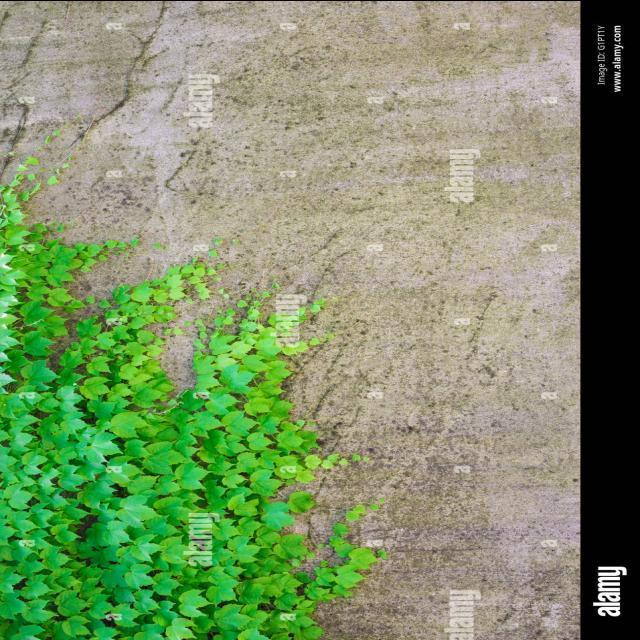crack: (8, 7, 573, 239), (177, 1, 568, 101), (11, 13, 169, 194), (1, 4, 69, 161), (107, 5, 175, 108), (1, 100, 31, 192)
dampens: (463, 292, 501, 359)
dampness: (298, 228, 581, 633), (444, 230, 586, 443)
vegetation: (0, 130, 387, 639), (3, 139, 166, 441), (0, 154, 60, 623), (10, 378, 132, 574), (60, 467, 182, 630), (206, 274, 332, 384), (1, 249, 89, 402), (1, 226, 30, 389), (2, 4, 68, 50), (167, 235, 235, 279), (23, 300, 57, 326), (18, 95, 36, 106)
